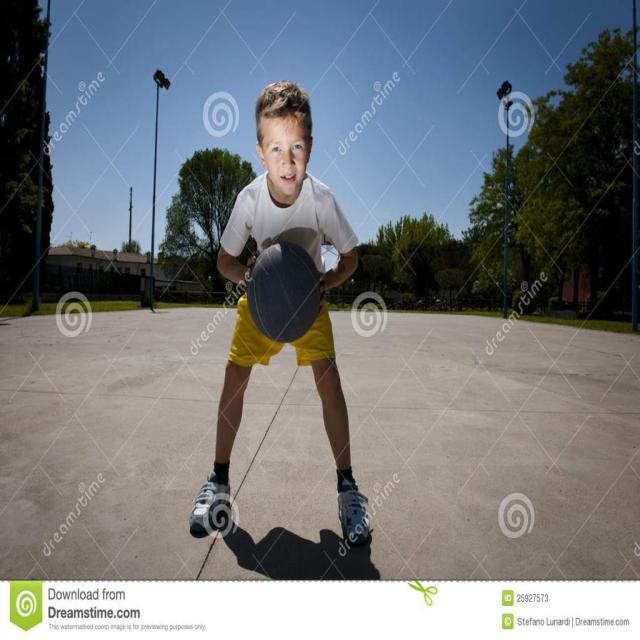Face: (256, 105, 318, 194)
